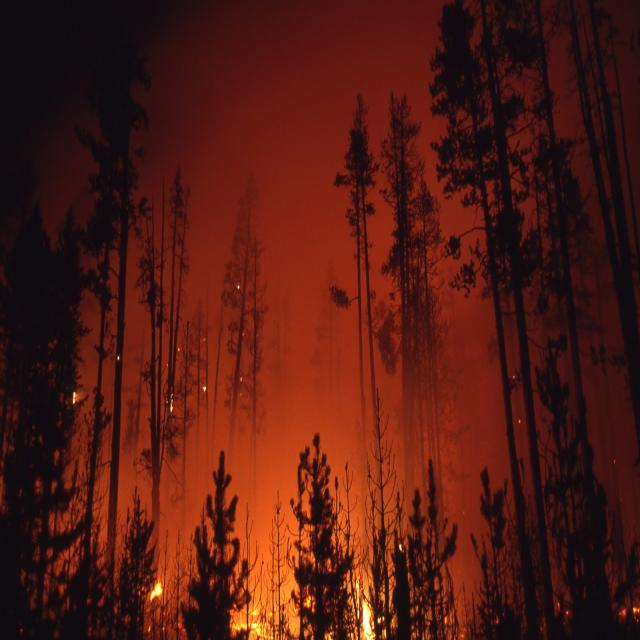Fire: (224, 585, 280, 640), (353, 582, 388, 636), (143, 569, 169, 607)
Smoke: (70, 29, 639, 565)
